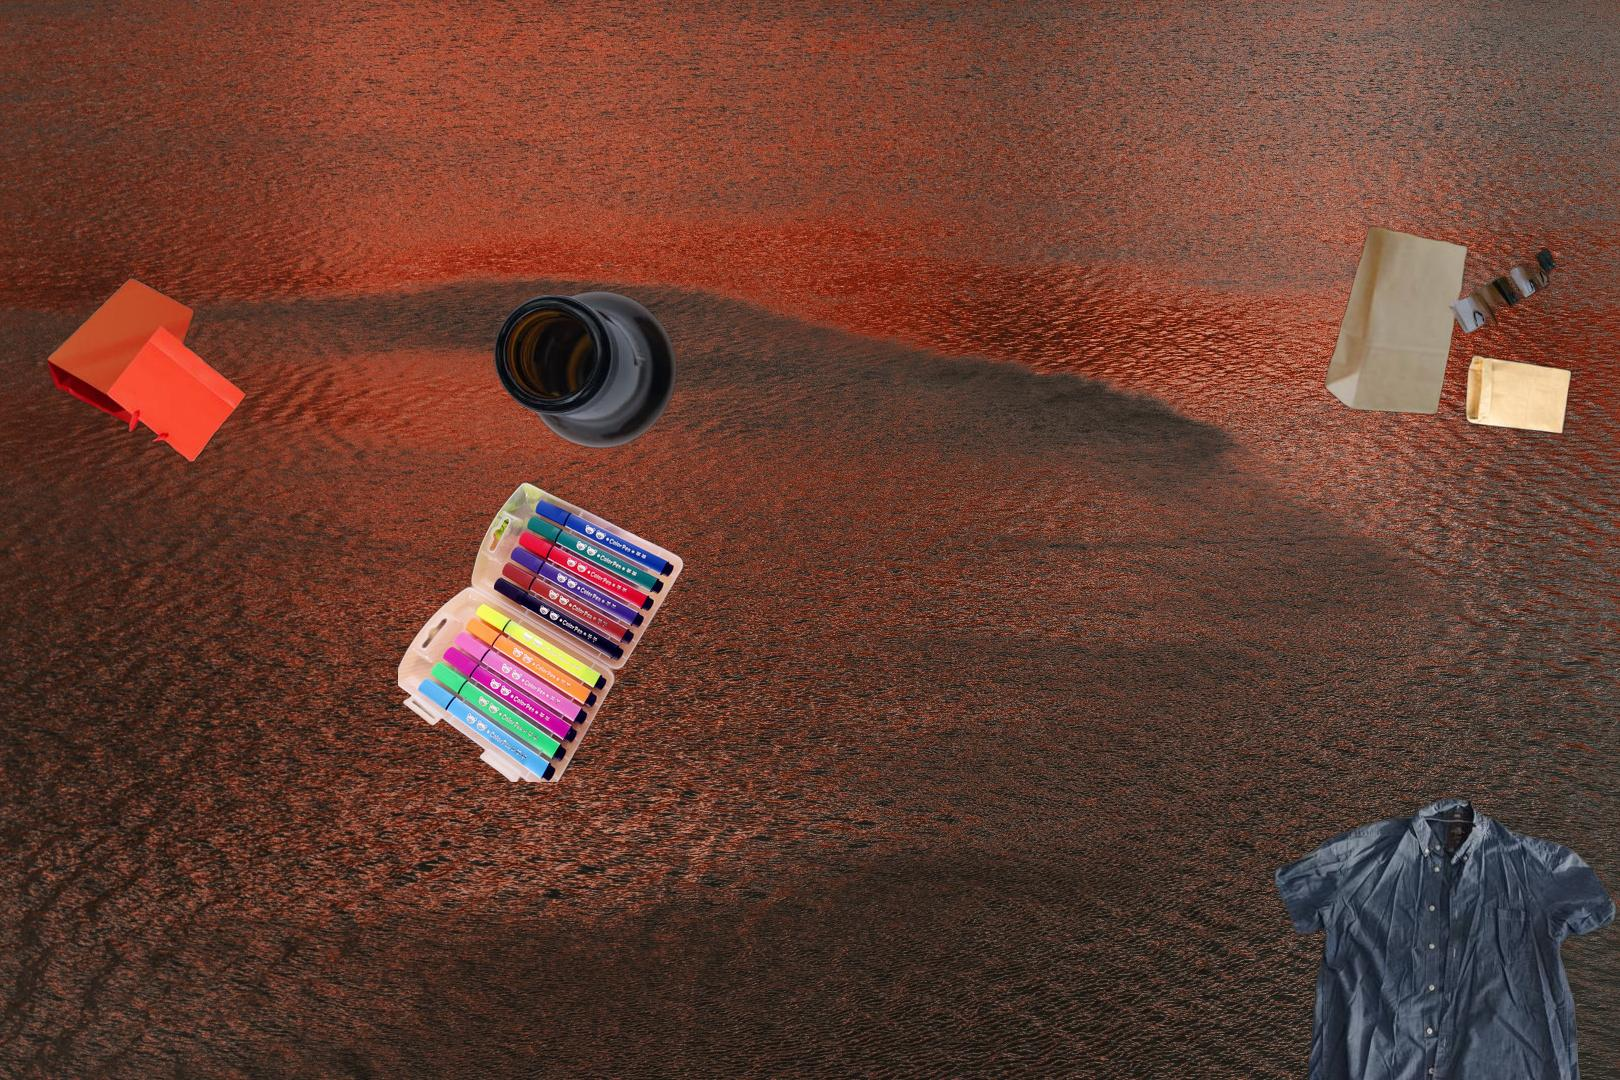clothes: (1269, 793, 1619, 1080)
glass: (491, 289, 681, 451)
paper-bag: (45, 258, 315, 474), (1321, 223, 1574, 438)
penholder: (398, 479, 687, 782)
